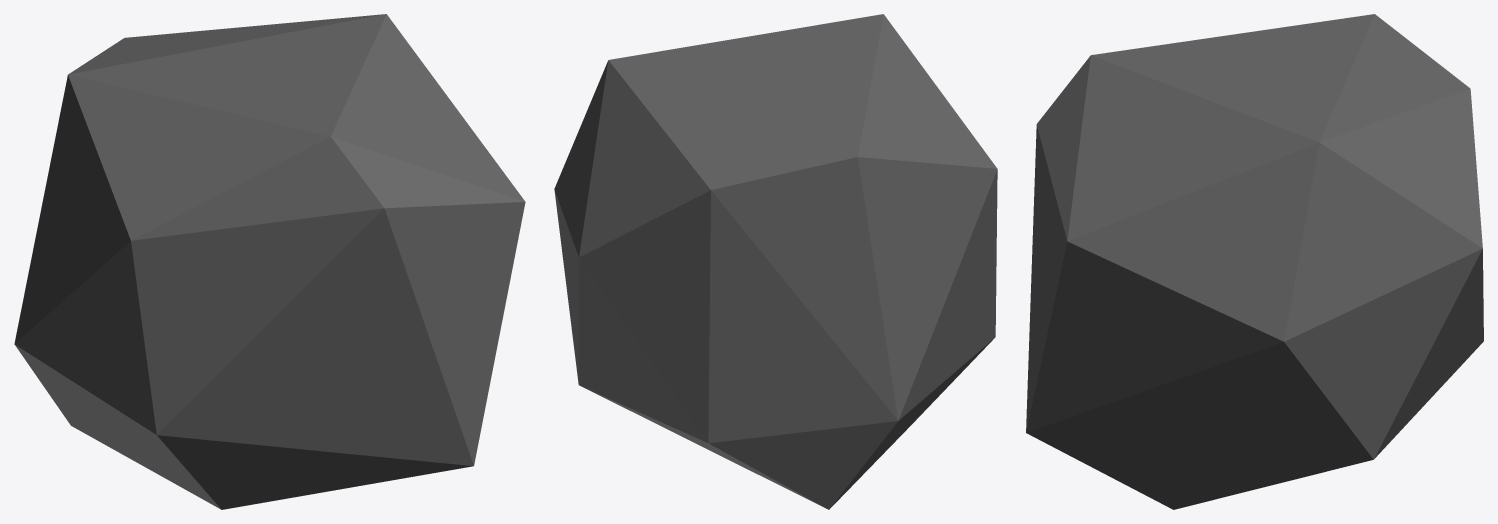
File: EM_Rock02c.fbx
The picture shows the model from 3 angles, left to right: view 1: azimuth 30°, elevation 25°; view 2: azimuth 150°, elevation 25°; view 3: azimuth 270°, elevation 25°; orthographic projection. The views are drawn at different scales.
Parts seen in each view (by area): view 1: EM_Rock02c_LOD0; view 2: EM_Rock02c_LOD0; view 3: EM_Rock02c_LOD0.
Boxes of the visible parts, box(x1,y1,x2,y2) form: EM_Rock02c_LOD0: box(14, 14, 525, 509); EM_Rock02c_LOD0: box(554, 14, 997, 509); EM_Rock02c_LOD0: box(1026, 14, 1483, 509).
Size of what is drawn, in the model's own units: 0.2552 by 0.2362 by 0.2501.
